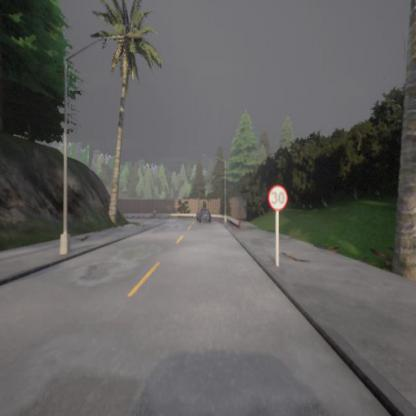traffic_sign_30: (268, 184, 288, 210)
vehicle: (196, 209, 211, 224)
